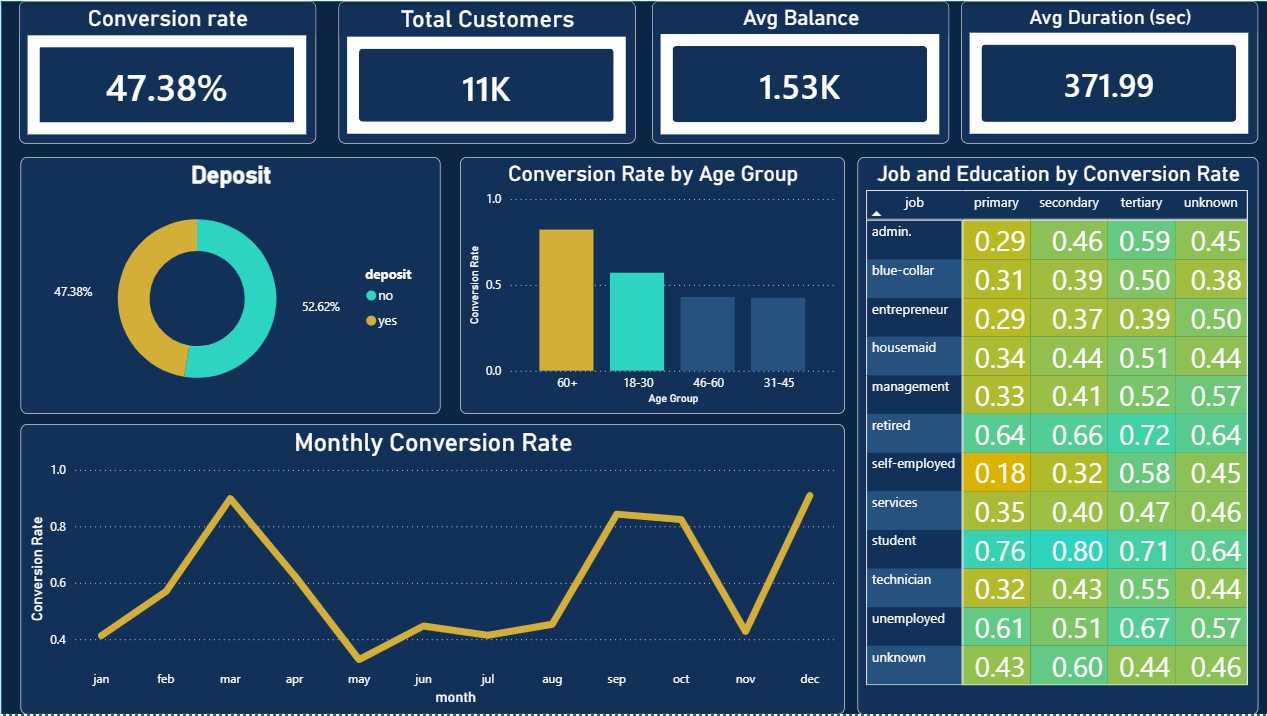

What the dashboard file says about the page in this screenshot:
{"tool":"powerbi","page":{"name":"Page 1","canvas":[1280,720],"ordinal":0},"visuals":[{"type":"shape","box":[0,0,1280.8,720.6],"z":0},{"type":"cardVisual","title":"Conversion rate","fields":{"Data":["bank_marketing bank.Conversion Rate"]},"box":[18.9,0,299.8,144.1],"z":1000},{"type":"cardVisual","title":"Total Customers","fields":{"Data":["bank_marketing bank.Total Customers"]},"box":[340.6,0,299.8,144.1],"z":2000},{"type":"cardVisual","title":"Avg Balance","fields":{"Data":["bank_marketing bank.Avg Balance"]},"box":[657.9,0,299.8,144.1],"z":3000},{"type":"cardVisual","title":"Avg Duration (sec)","fields":{"Data":["bank_marketing bank.Avg Duration (sec)"]},"box":[969.4,0,299.8,144.1],"z":4000},{"type":"donutChart","title":"Deposit","fields":{"Category":["bank_marketing bank.deposit"],"Y":["bank_marketing bank.Total Customers"]},"box":[19.4,157.1,424.2,259.1],"z":5000},{"type":"columnChart","fields":{"Category":["bank_marketing bank.Age Group"],"Y":["bank_marketing bank.Conversion Rate"]},"box":[463.1,157.1,388.6,259.1],"z":6000},{"type":"pivotTable","title":"Job and Education by Conversion Rate","fields":{"Rows":["bank_marketing bank.job"],"Columns":["bank_marketing bank.education"],"Values":["bank_marketing bank.Conversion Rate"]},"box":[864.7,157.1,404.8,563.5],"z":7000},{"type":"lineChart","title":"Monthly Conversion  Rate","fields":{"Y":["bank_marketing bank.Conversion Rate"],"Category":["bank_marketing bank.month"]},"box":[19.4,427.5,832.3,293.1],"z":8000}]}

Visuals, with their boxes in screenshot pixels (x1, y1, x2, y2), scaled from the page's 1280x720 canvas onto the 1267x716 screenshot:
shape: detection(0, 0, 1266, 715)
"Conversion rate" cardVisual: detection(19, 0, 315, 143)
"Total Customers" cardVisual: detection(337, 0, 634, 143)
"Avg Balance" cardVisual: detection(651, 0, 948, 143)
"Avg Duration (sec)" cardVisual: detection(960, 0, 1256, 143)
"Deposit" donutChart: detection(19, 156, 439, 414)
columnChart - bank_marketing bank.Age Group x bank_marketing bank.Conversion Rate: detection(458, 156, 843, 414)
"Job and Education by Conversion Rate" pivotTable: detection(856, 156, 1257, 715)
"Monthly Conversion  Rate" lineChart: detection(19, 425, 843, 715)
